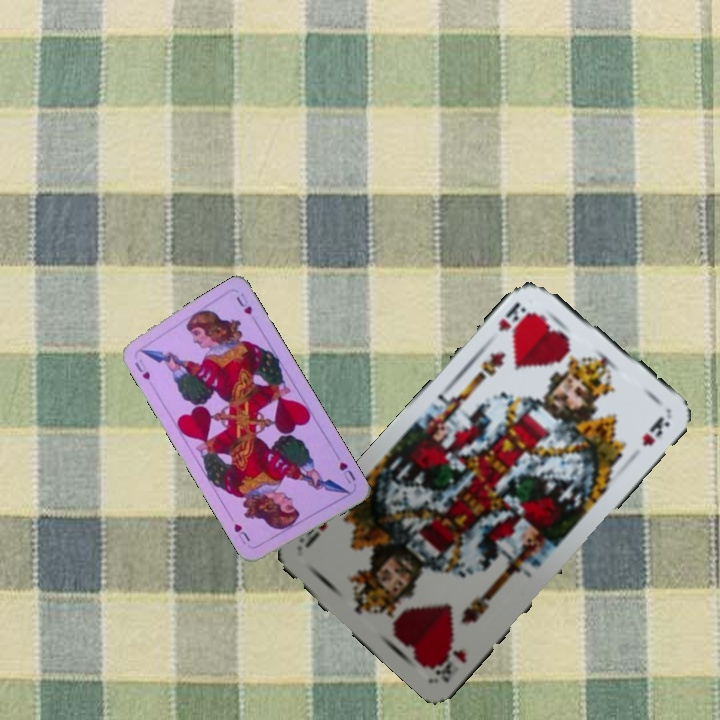HK: (430, 643, 469, 684), (494, 297, 529, 335)
HU: (335, 458, 358, 486), (130, 355, 153, 383)
